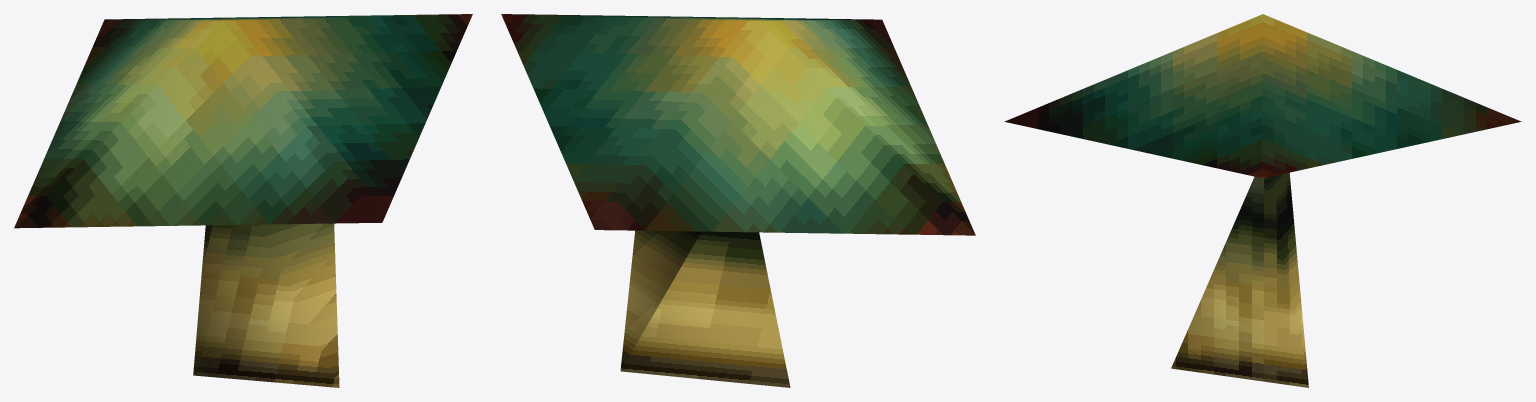
Rendered from frst_fngi_mushroom_blue_sm_l1.fbx.
3 views of the same model, side by side, from view 1: azimuth 30°, elevation 25°; view 2: azimuth 150°, elevation 25°; view 3: azimuth 270°, elevation 25° (orthographic). The views are drawn at different scales.
Visible parts, largest first — view 1: mesh_node; view 2: mesh_node; view 3: mesh_node.
Boxes of the visible parts, x1,y1,x2,y2 form: mesh_node: (14,14,472,387); mesh_node: (501,14,975,387); mesh_node: (1004,14,1521,387).
Size of the model in its own units: 0.2265 by 0.1638 by 0.2375.
Materials: 1 (1 with a texture image).
